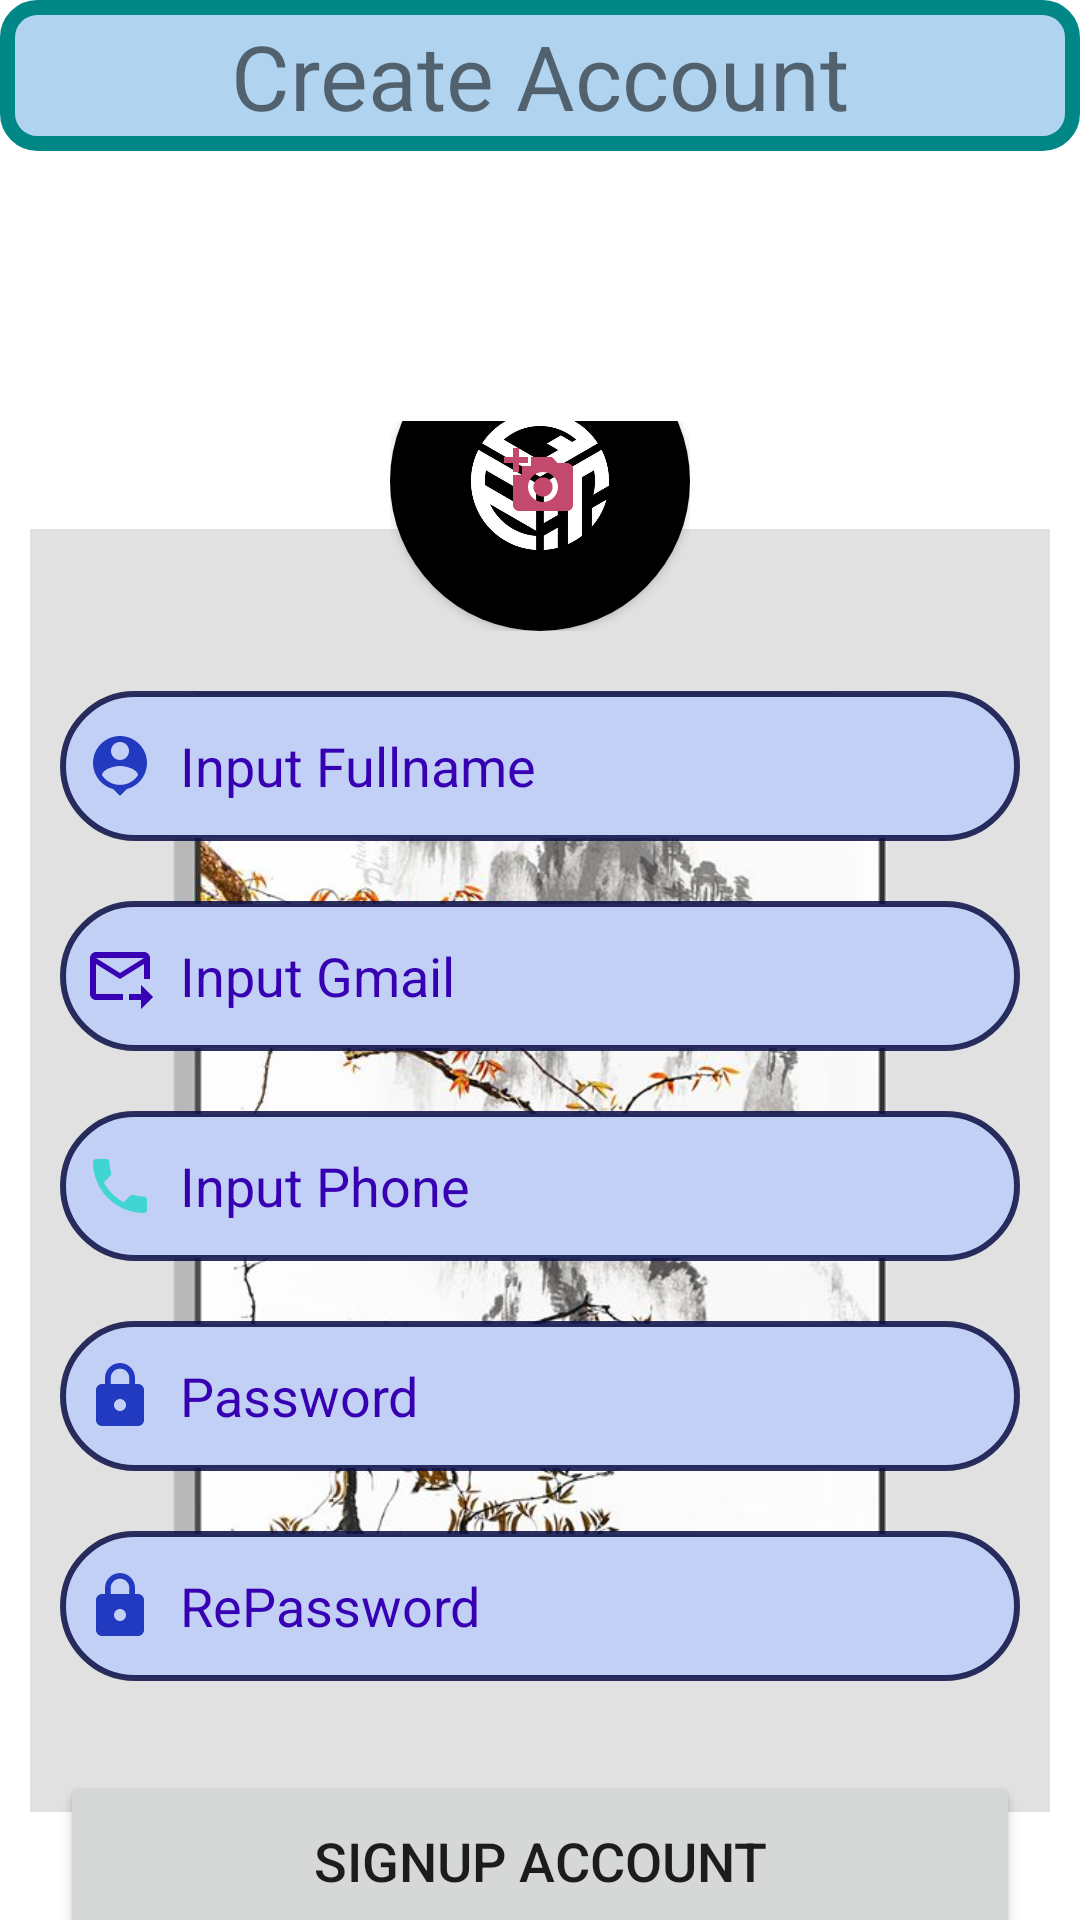

Point at icon controls on the screen. Image size 1080*1920, points as point (x, y).
add photo: point (540, 481)
